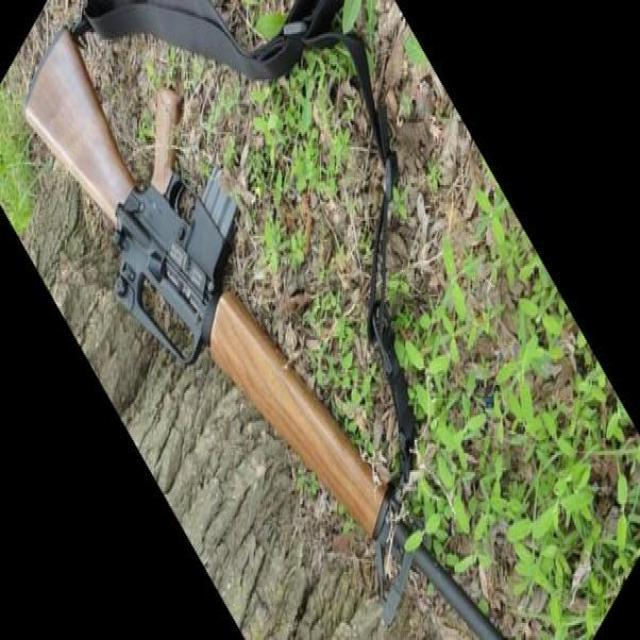weapon: (24, 24, 508, 640)
